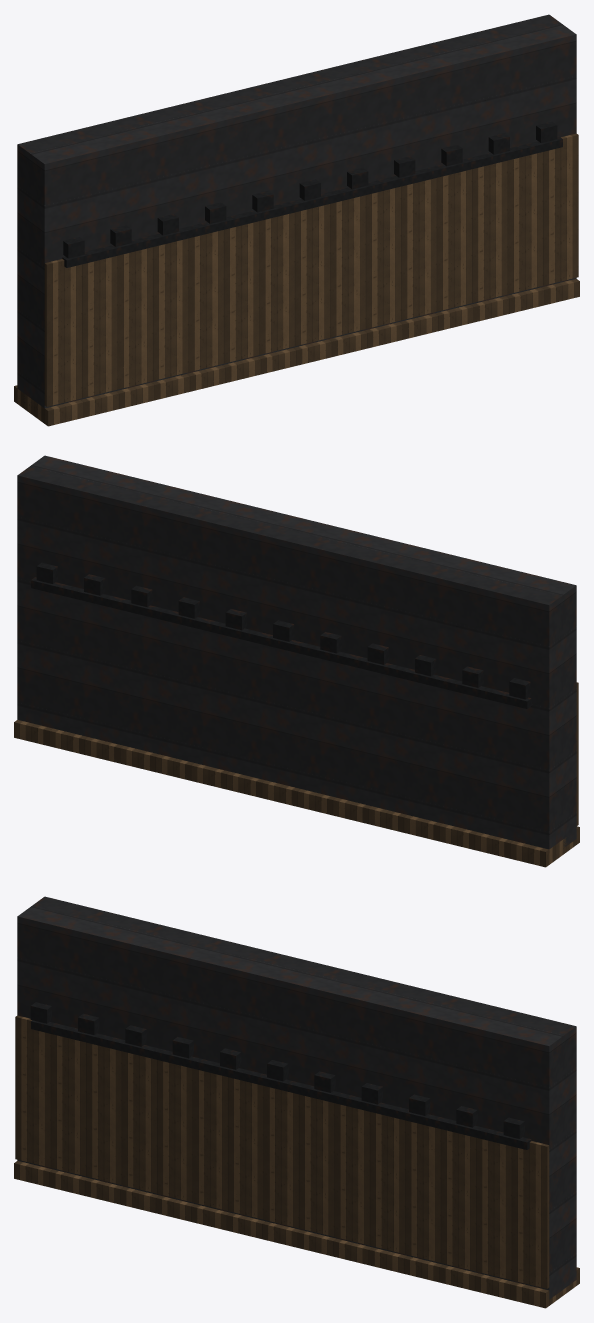
File: B_caisson_s.glb
3 views of the same model, one above another, from view 1: azimuth 30°, elevation 25°; view 2: azimuth 150°, elevation 25°; view 3: azimuth 330°, elevation 25° (orthographic).
Parts seen in each view (by area): view 1: B_caisson_s; view 2: B_caisson_s; view 3: B_caisson_s.
Boxes of the visible parts, x1,y1,x2,y2 form: B_caisson_s: [14, 14, 579, 426]; B_caisson_s: [14, 455, 579, 867]; B_caisson_s: [14, 896, 579, 1308].
Bounding box in the file's own units: 18 × 8.4 × 2.2.
Materials: 3 (3 with a texture image).
